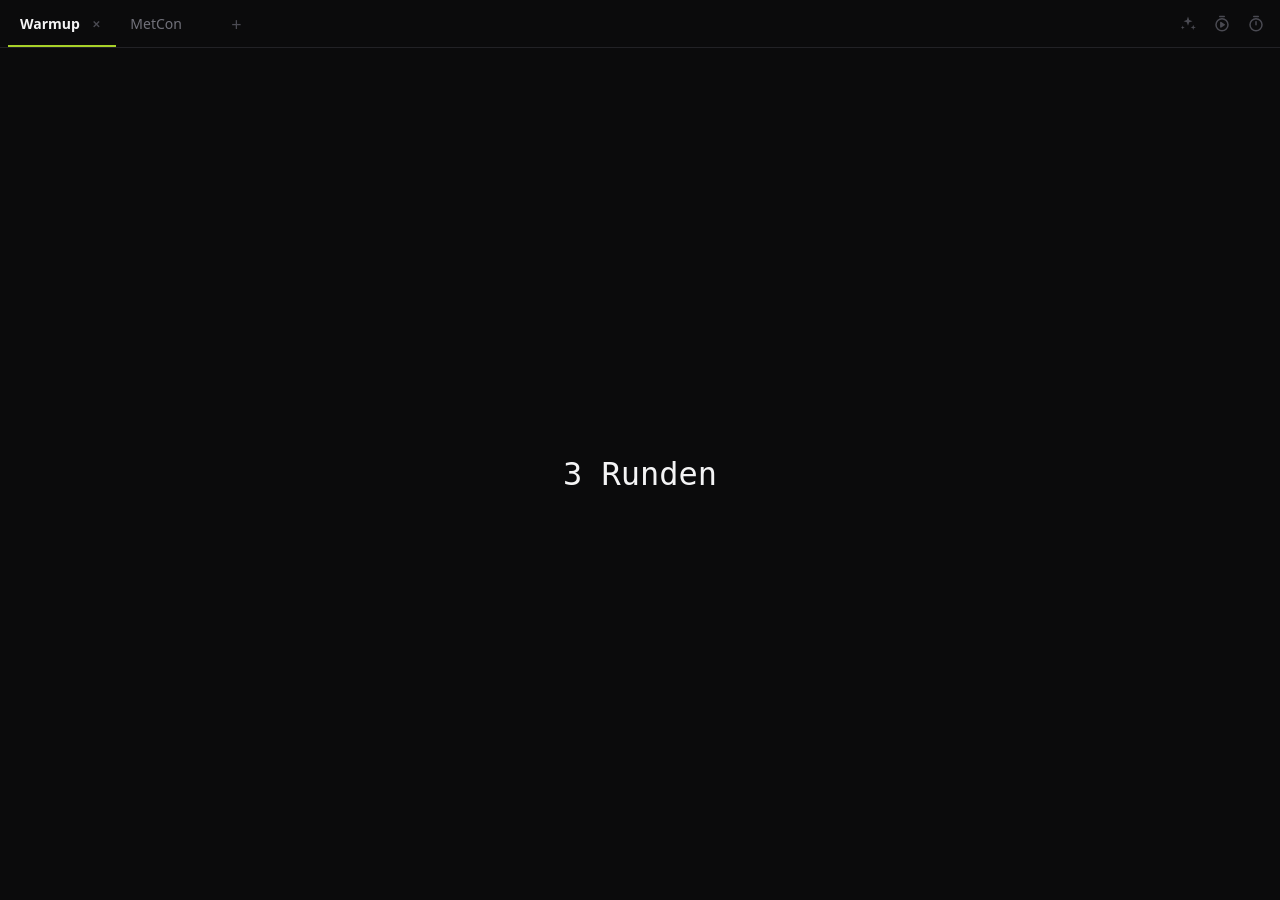
WorkoutEditor Dauer-Schätzung › zeigt das Popover mit Gesamtdauer und Segmenten nach Klick
Click the button named "Dauer schätzen" at (1256, 24), box [1240,8,1272,40]
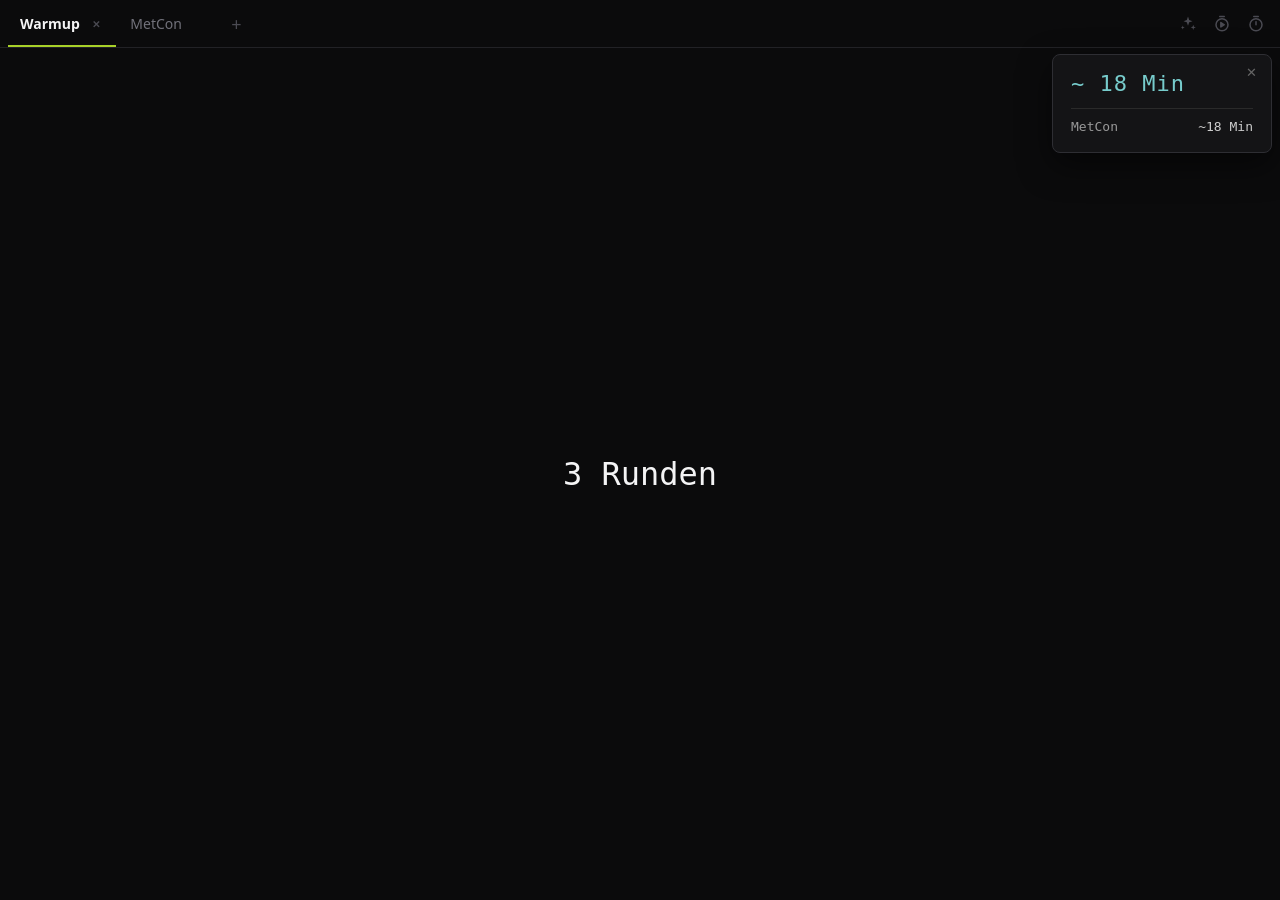
Result: the dialog with class "estimate-popover" is shown at [1052,54,1272,153]
Result: the text with class "estimate-total" shows "18" at [1071,71,1185,96]
Result: the dialog with class "estimate-popover" shows "MetCon" at [1071,119,1118,134]
